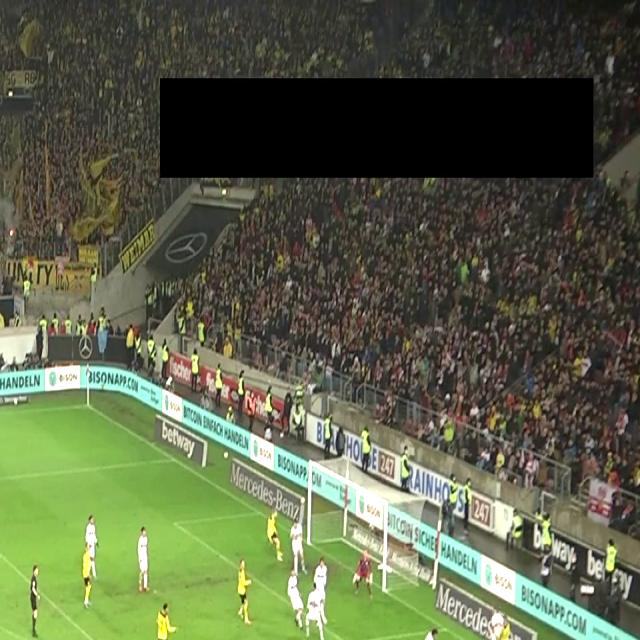goalkeeper: (349, 543, 376, 598)
referee: (22, 552, 48, 640)
soccer-player: (73, 511, 105, 608), (298, 564, 331, 640), (130, 521, 158, 597), (235, 558, 262, 632), (284, 569, 310, 636), (151, 595, 185, 640), (479, 603, 516, 640), (259, 513, 282, 569), (415, 623, 446, 640)
